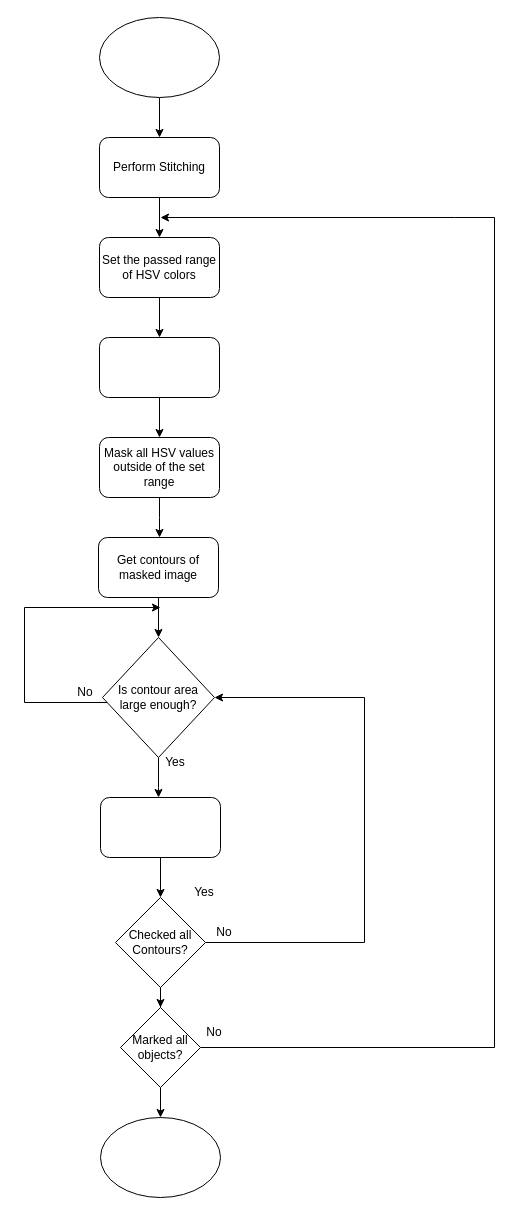
Some shapes in this 520 by 1215 pixel diagram are drawn without their labels. The shapes that lost their labels are listed below. From the top down, each one's centre as x and y in pixels, then its label:
At point 159,57: "Start".
At point 159,367: "Convert Image to HSV".
At point 160,827: "Put rectangle around contour".
At point 160,1157: "End".
